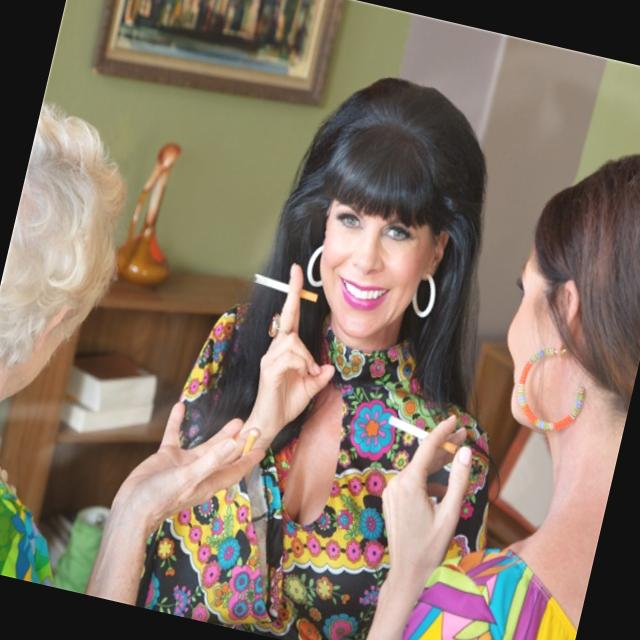smoke: (379, 410, 468, 462), (248, 266, 326, 313)
